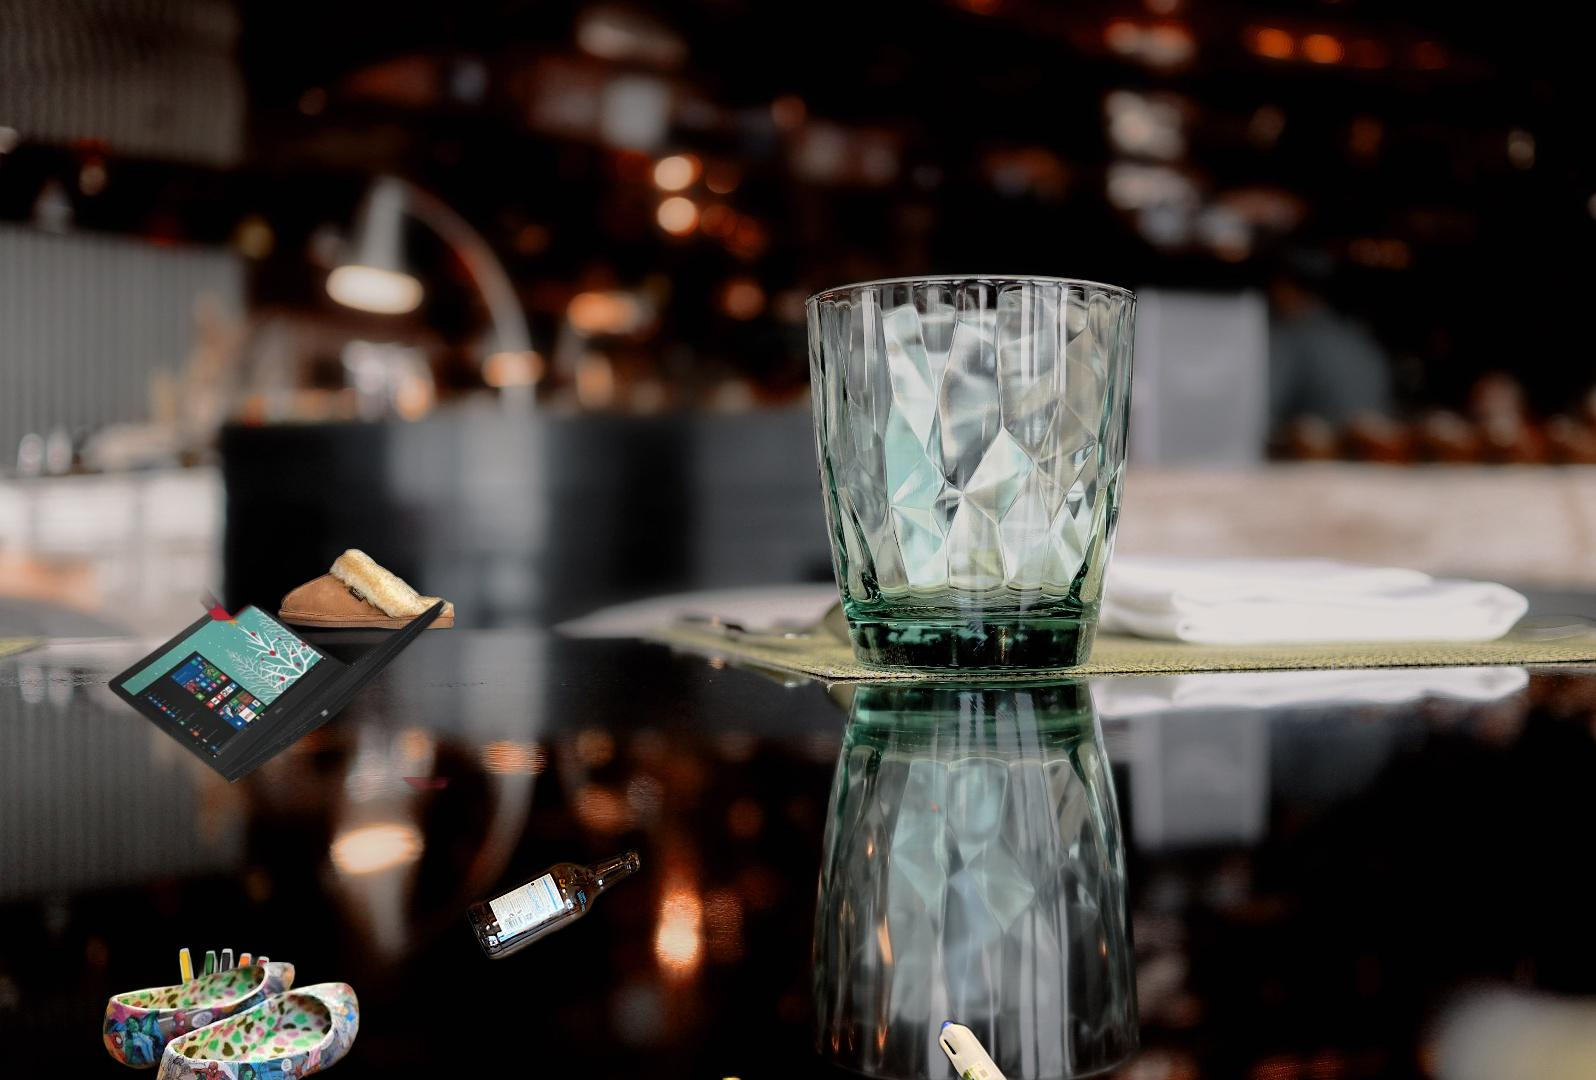glass: (391, 777, 763, 1080)
paper: (104, 582, 451, 789)
penholder: (176, 939, 297, 1080), (252, 1061, 1052, 1080)
plastic-bottles: (934, 1015, 1013, 1080)
shoes: (101, 962, 363, 1080), (275, 546, 458, 633)
trashbox-cardboard: (617, 861, 1337, 1080)
